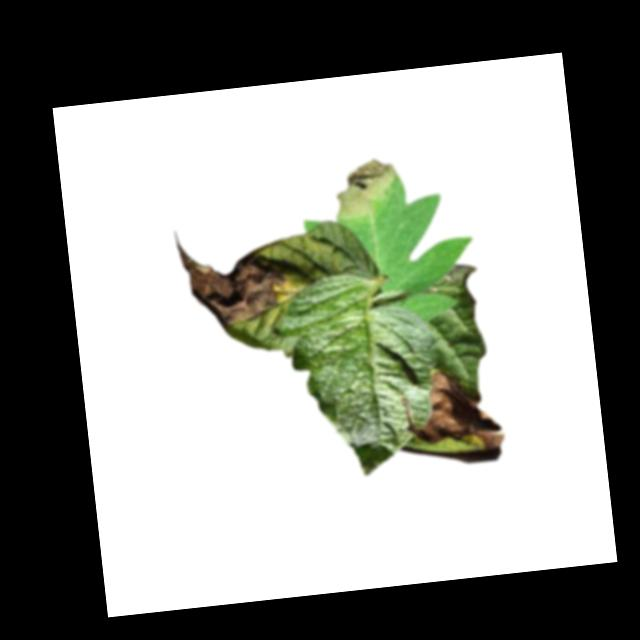Late_blight: (172, 218, 291, 338), (406, 365, 508, 459), (332, 155, 403, 222)
healthy: (267, 263, 449, 485)
